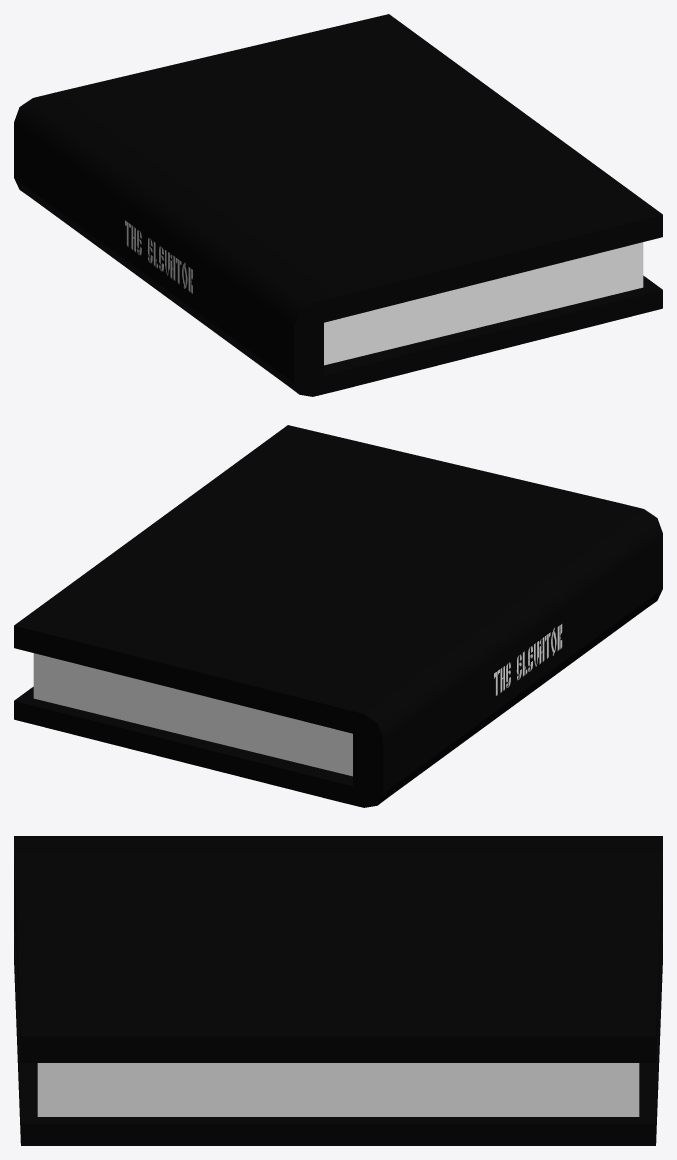
The model's file is furniture_decor_210026.glb.
3 renders of one model, top to bottom at view 1: azimuth 30°, elevation 25°; view 2: azimuth 150°, elevation 25°; view 3: azimuth 270°, elevation 25°, orthographic. The views are drawn at different scales.
Parts seen in each view (by area): view 1: furniture_decor_210026; view 2: furniture_decor_210026; view 3: furniture_decor_210026.
Boxes of the visible parts, bbox=[...] form: furniture_decor_210026: bbox=[14, 14, 662, 396]; furniture_decor_210026: bbox=[14, 425, 662, 807]; furniture_decor_210026: bbox=[14, 836, 662, 1145].
Bounding box in the file's own units: 0.1987 × 0.048 × 0.2589.
Materials: 1 (1 with a texture image).
